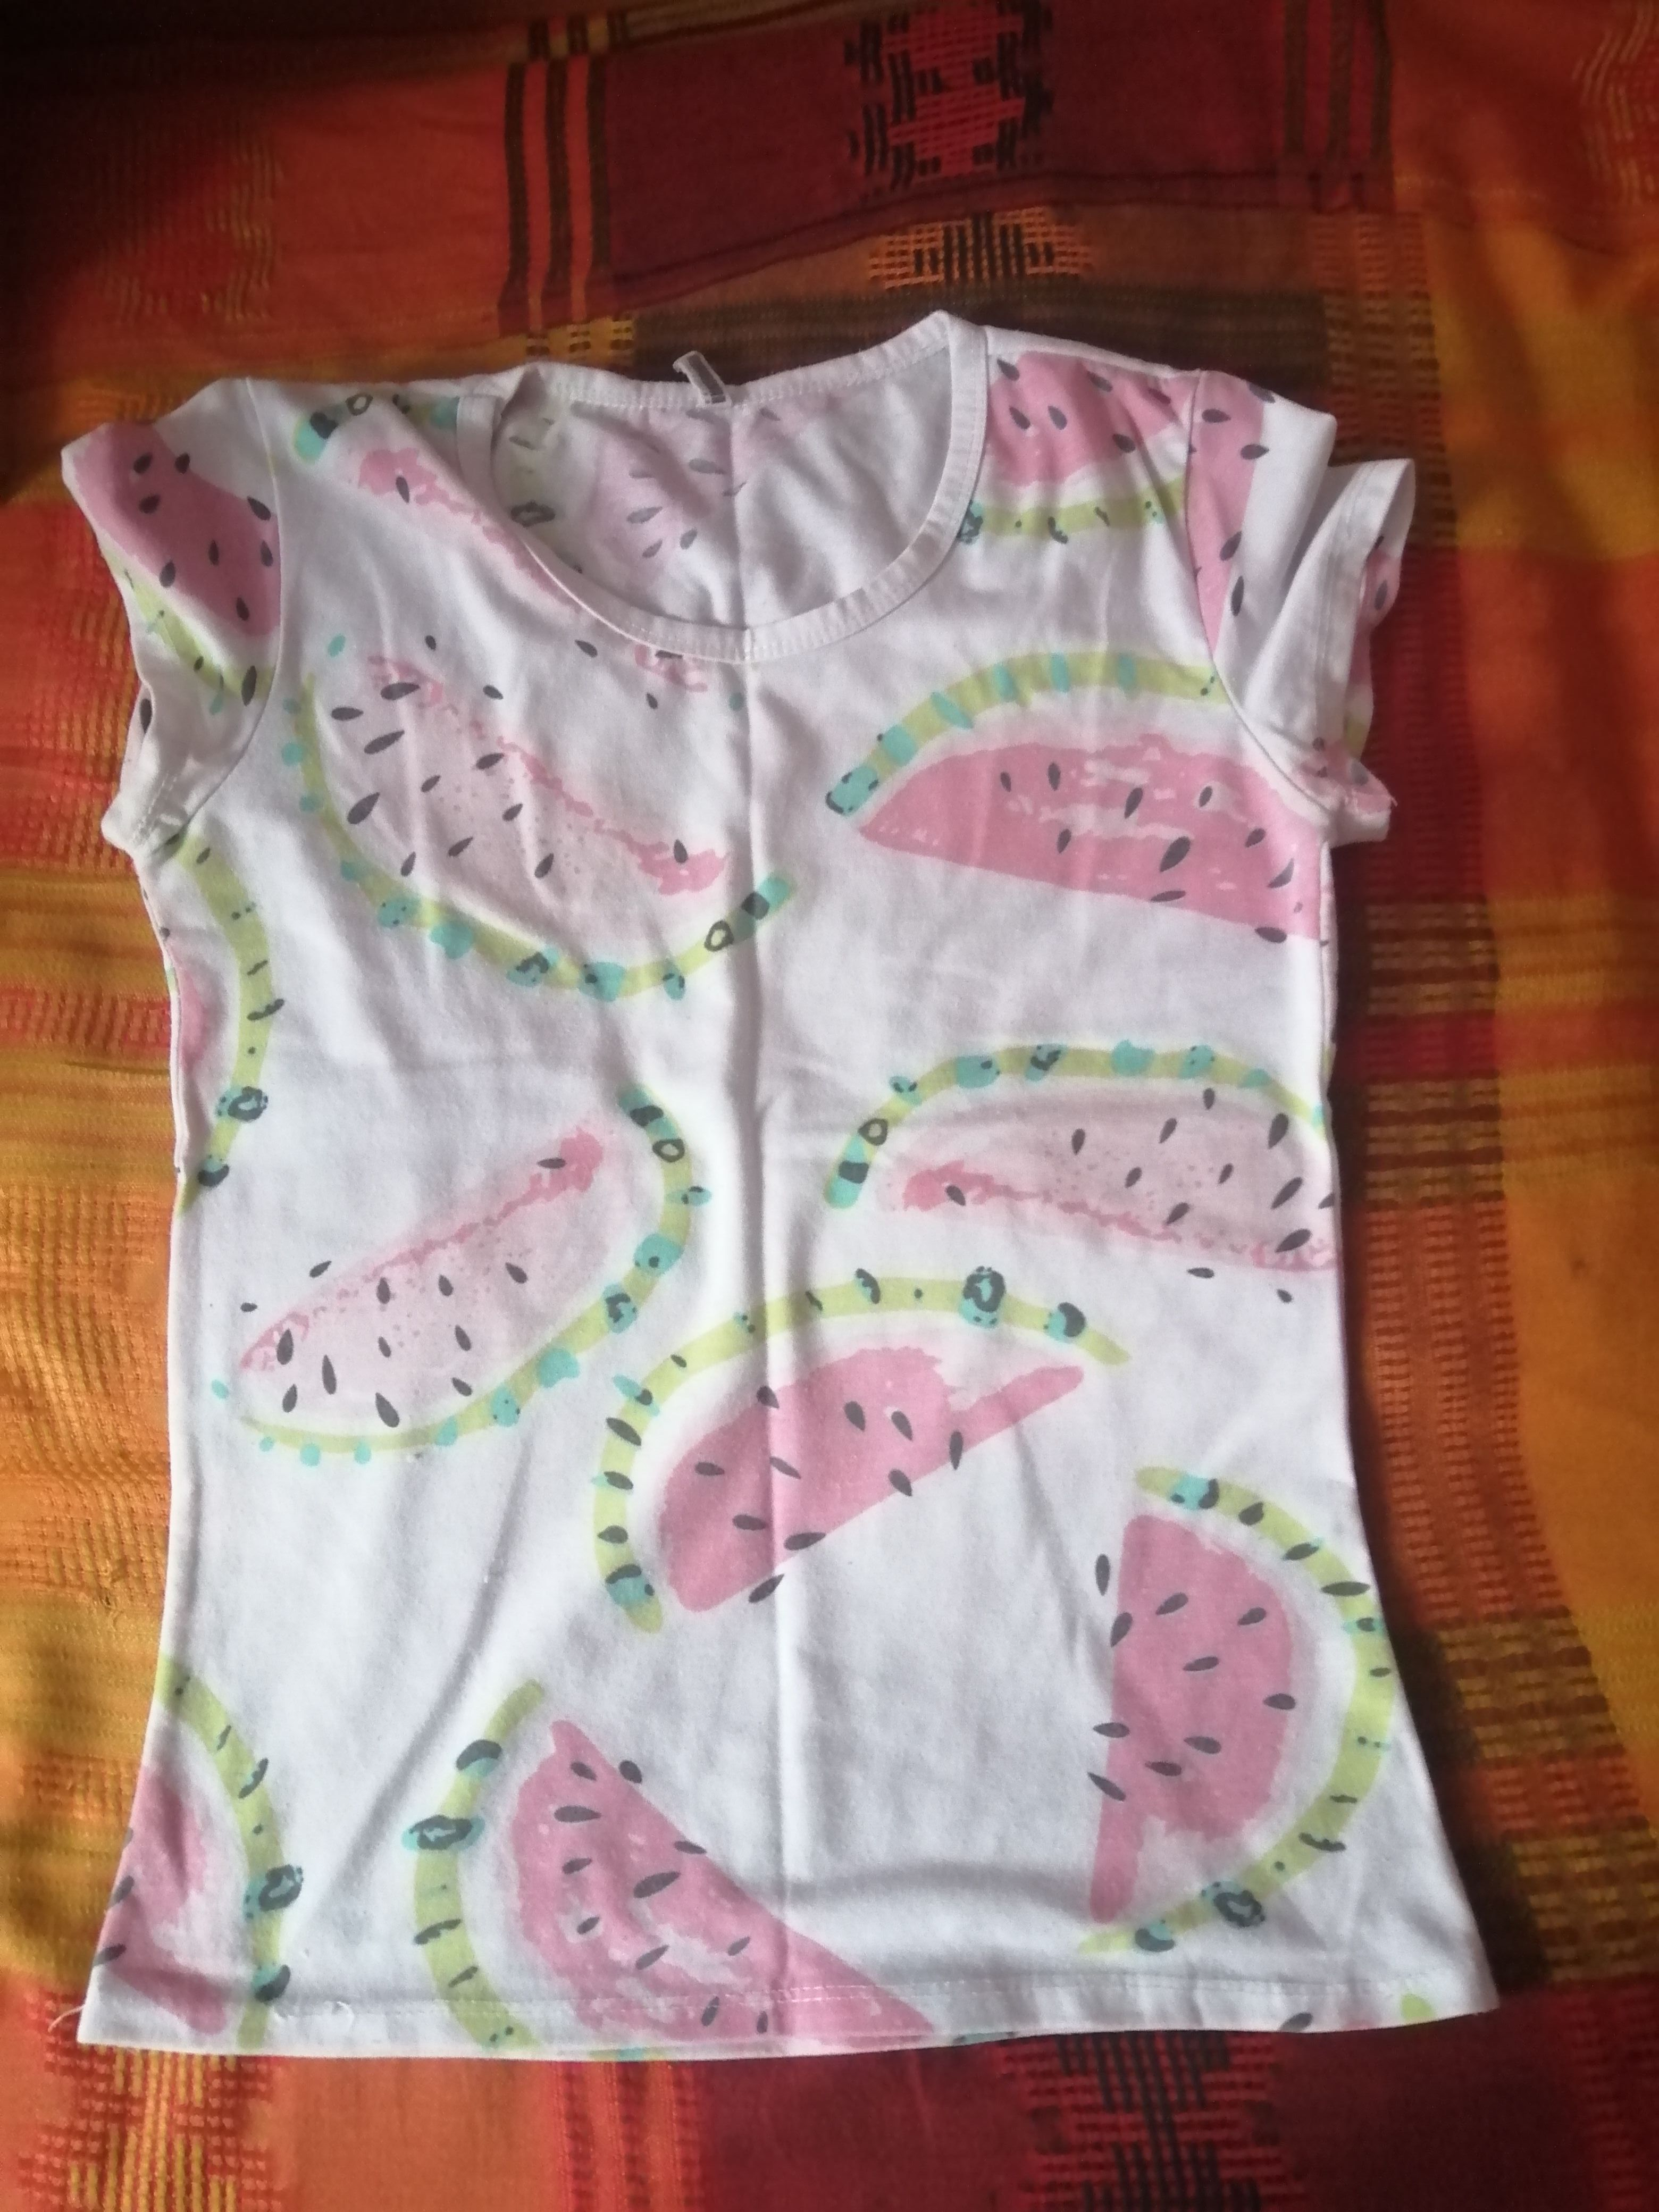clothes: (9, 322, 1514, 2038)
